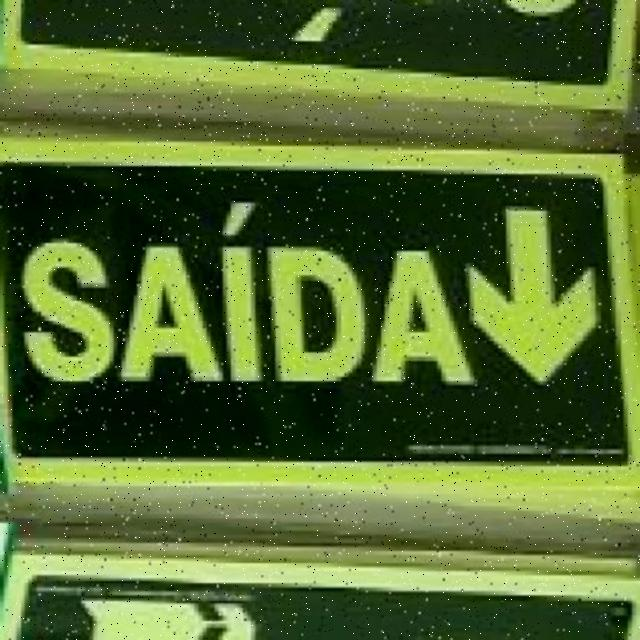emergency_exit: (2, 1, 638, 635), (1, 154, 630, 469)
